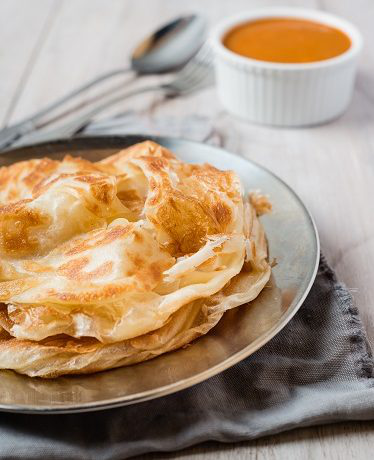Prata: (0, 160, 288, 378)
